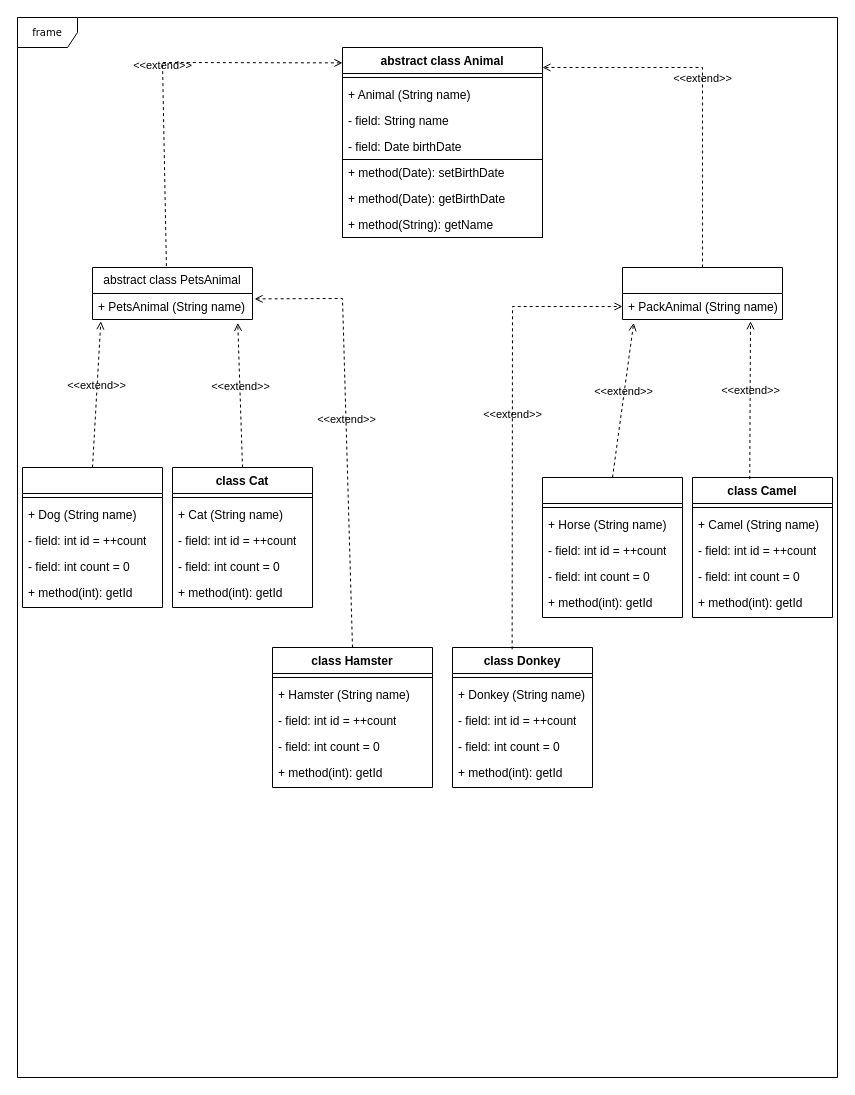
Image size: 855x1095. Some labels were removed from this diagram. The shapes that lost their labels are listed below. From the top down, each one's box as (x1, y1, x2, y2) in pixels, then its label:
(622, 266, 782, 320): abstract class PackAnimal
(22, 466, 162, 608): class Dog
(542, 476, 682, 618): class Horse
